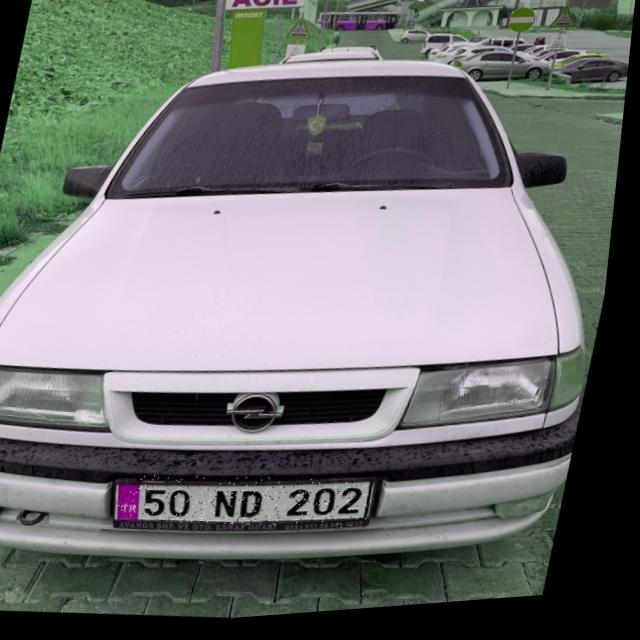license_plate: (117, 460, 388, 550)
